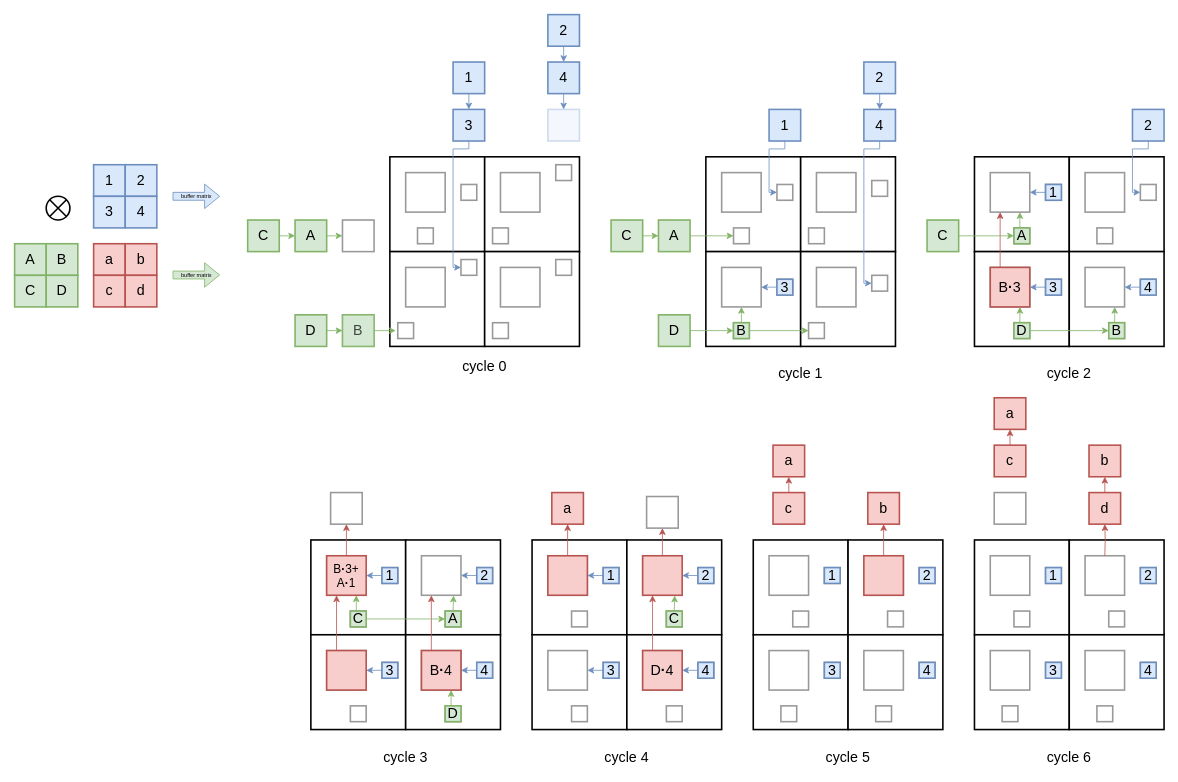
Some shapes in this 1178 by 782 pixel diagram are drawn without their labels. The centre of each missing label's shape, as x and y in pixels:
"B · 4+ A · 2" belongs at point 662,575.
"D · 3" belongs at point 346,669.
"D · 3+ C · 1" belongs at point 567,575.
"D · 4+ C · 2" belongs at point 883,575.
